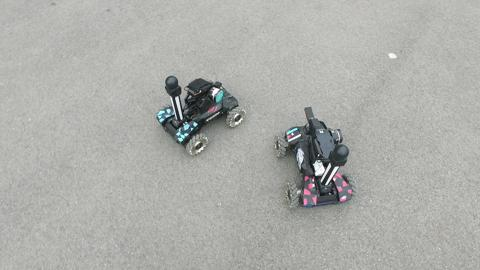chariot: (267, 97, 371, 215), (150, 65, 251, 162)
